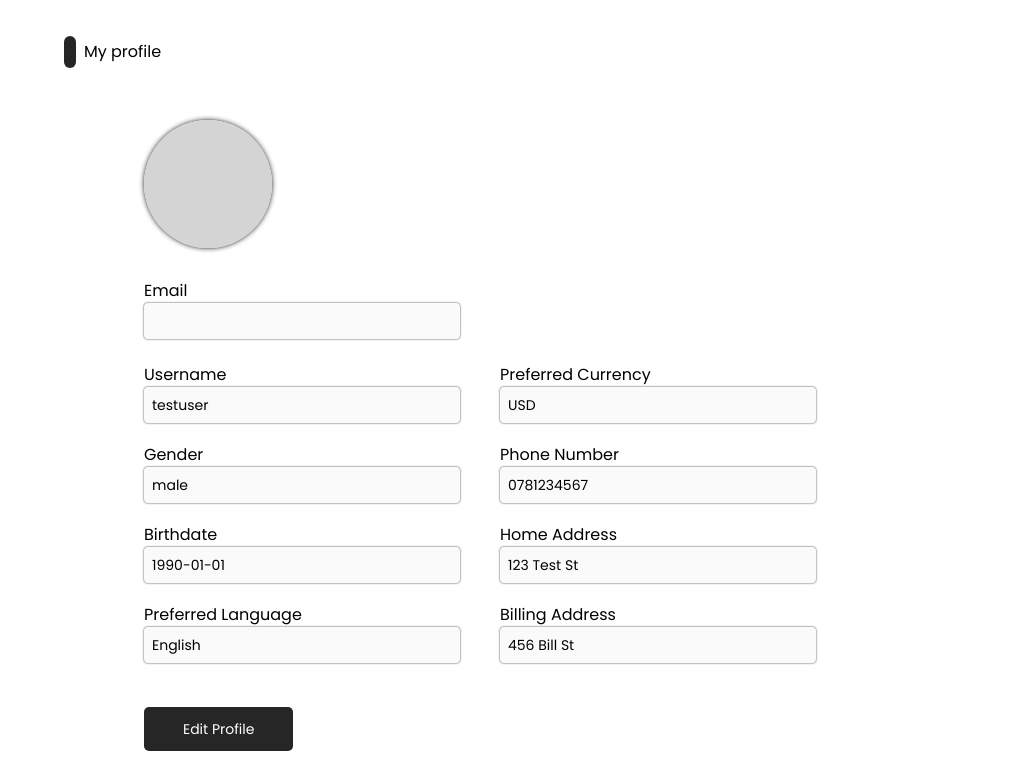
Test case: Profile Component › cancels editing
The image size is (1024, 768).
Click the button "Edit Profile": (219, 729) x1=144 y1=707 x2=293 y2=751
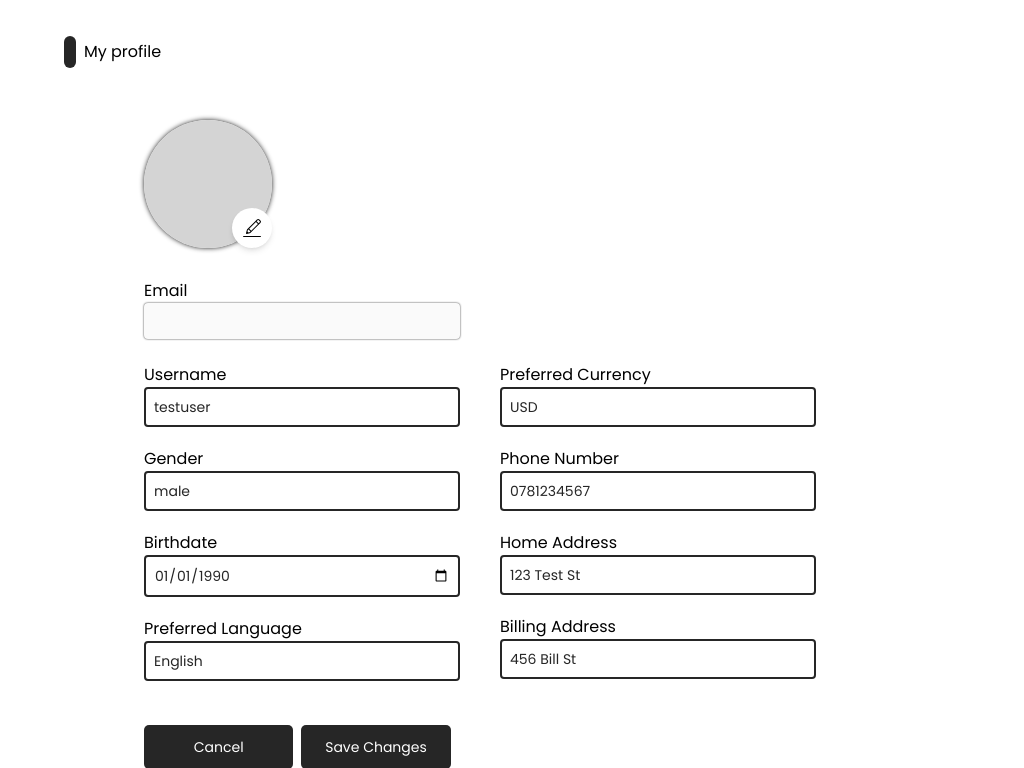
Check: the button "Cancel" is shown
Click the button "Cancel": (219, 747) x1=144 y1=725 x2=293 y2=767
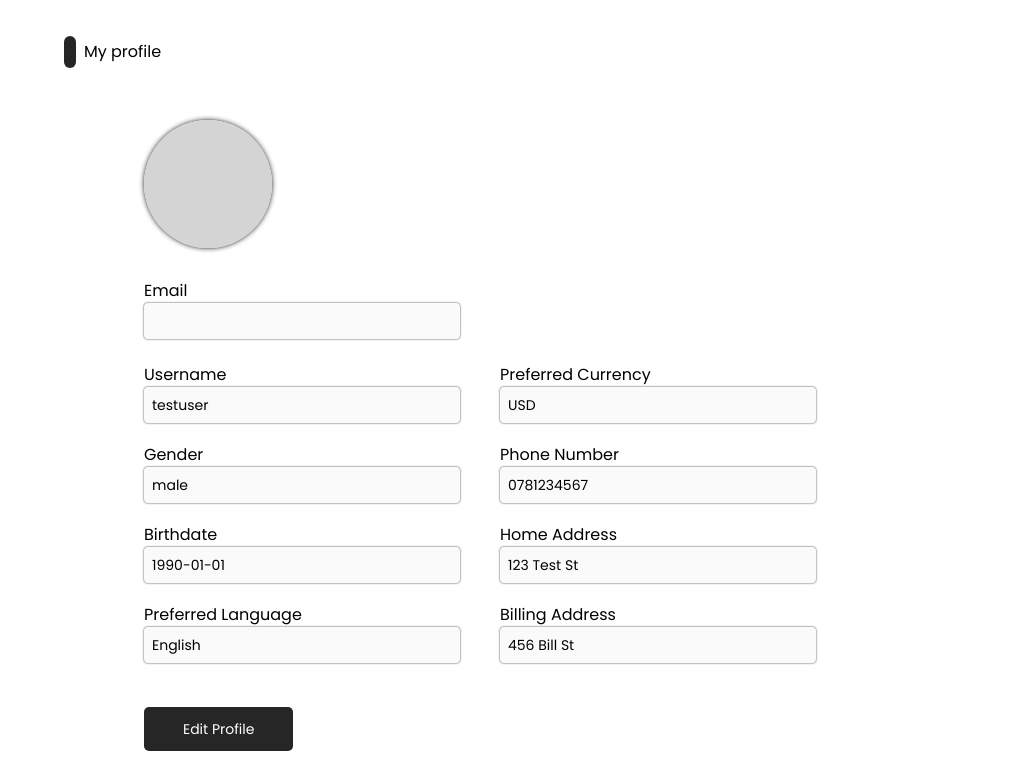
Check: the button "Edit Profile" is shown, box x1=144 y1=707 x2=293 y2=751
